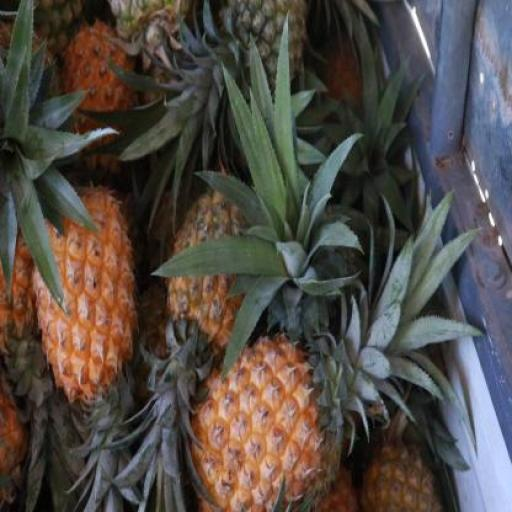Pineapple - v8 v1: (33, 185, 145, 412), (185, 334, 326, 512)
